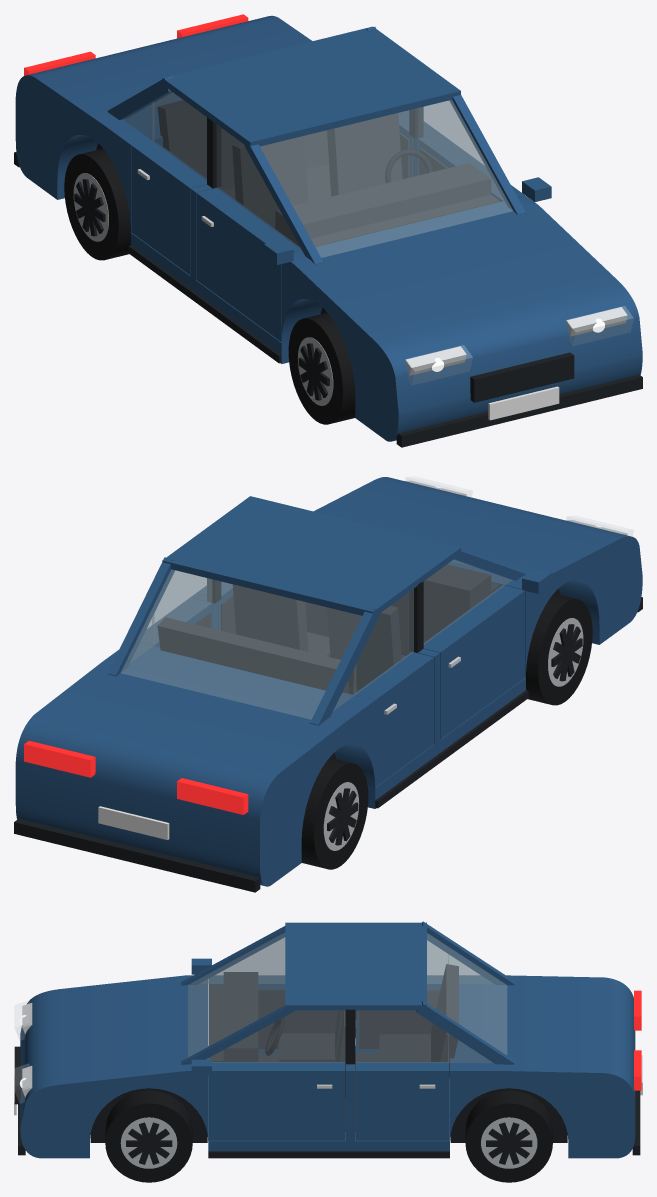
The model's file is sedan.glb.
The picture shows the model from 3 angles, top to bottom: view 1: azimuth 30°, elevation 25°; view 2: azimuth 150°, elevation 25°; view 3: azimuth 270°, elevation 25°; orthographic projection. The views are drawn at different scales.
Visible parts, largest first — view 1: BodyShell, Glass, Interior, Roof, Door_FrontR, Door_RearR, Pillars, Wheel_FR, Wheel_RR, Bumpers, Door_FrontL, Grille (+7 smaller); view 2: BodyShell, Glass, Roof, Interior, Door_FrontR, Door_RearR, Pillars, Wheel_RR, Wheel_FR, Bumpers, Door_RearL, Taillight_R (+3 smaller); view 3: BodyShell, Door_FrontL, Glass, Roof, Door_RearL, Interior, Wheel_FL, Wheel_RL, Pillars, Door_FrontR, Door_RearR, WheelWells (+5 smaller).
Part boxes in pixels (x1,y1,x2,y2): BodyShell: (15, 15, 642, 441); Glass: (123, 93, 512, 257); Interior: (157, 100, 499, 246); Roof: (162, 26, 460, 148); Door_FrontR: (196, 125, 301, 341); Door_RearR: (131, 91, 206, 274); Pillars: (107, 26, 525, 264); Wheel_FR: (288, 312, 355, 424); Wheel_RR: (64, 148, 130, 260); Bumpers: (14, 152, 642, 447); Door_FrontL: (418, 101, 525, 201); Grille: (470, 352, 574, 402); BodyShell: (15, 477, 642, 886); Glass: (121, 560, 511, 719); Roof: (162, 496, 460, 616); Interior: (157, 564, 499, 694); Door_FrontR: (423, 559, 525, 739); Door_RearR: (353, 589, 433, 786); Pillars: (107, 551, 525, 725); Wheel_RR: (301, 757, 368, 869); Wheel_FR: (526, 593, 592, 705); Bumpers: (14, 597, 642, 892); Door_RearL: (140, 571, 212, 647); Taillight_R: (177, 778, 248, 814); BodyShell: (20, 975, 635, 1158); Door_FrontL: (209, 1010, 345, 1140); Glass: (188, 932, 507, 1062); Roof: (285, 922, 426, 1010); Door_RearL: (355, 1010, 449, 1140); Interior: (209, 964, 458, 1131); Wheel_FL: (105, 1090, 192, 1182); Wheel_RL: (465, 1090, 552, 1182); Pillars: (181, 921, 514, 1064); Door_FrontR: (209, 938, 337, 1053); Door_RearR: (355, 941, 448, 1053); WheelWells: (90, 1088, 567, 1142).
Size of the model in its own units: 1.98 by 1.47 by 4.89.
